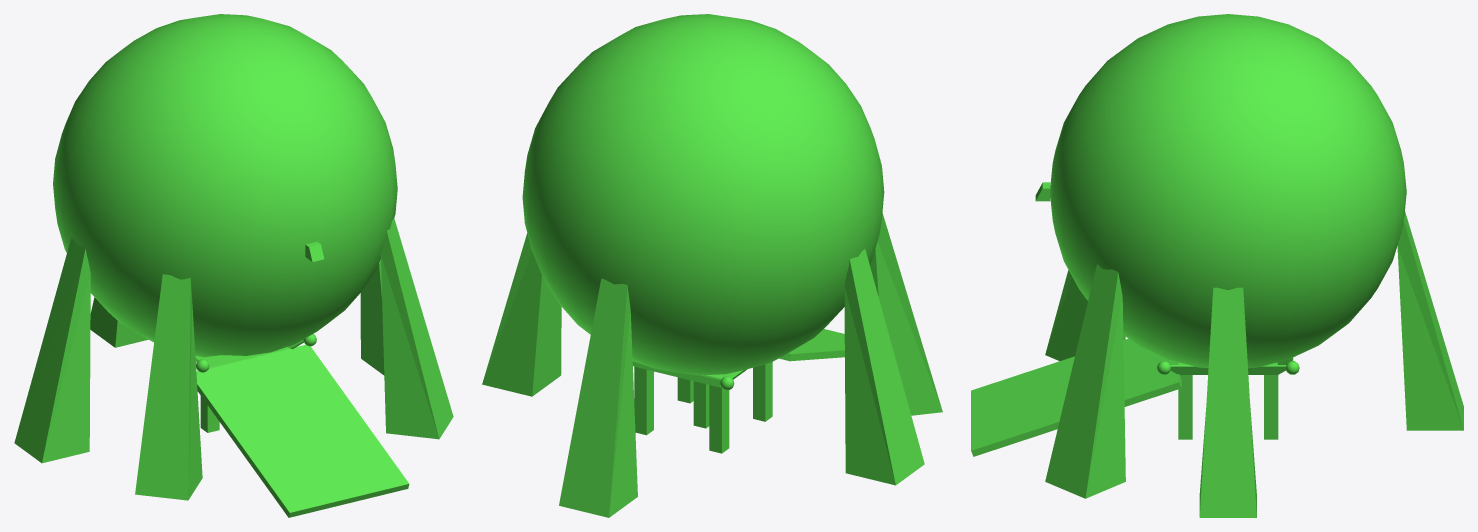
File: InverseGravitySample.fbx
3 views of the same model, side by side, from view 1: azimuth 30°, elevation 25°; view 2: azimuth 150°, elevation 25°; view 3: azimuth 270°, elevation 25° (orthographic). The views are drawn at different scales.
Visible parts, largest first — view 1: RoomGravity, RampEntery, PillarSpheros.004, PillarSpheros.001, PillarSpheros.003, PillarSpheros.002, PillarSpheros, Bowlentry; view 2: RoomGravity, PillarSpheros, PillarSpheros.001, PillarSpheros.002, PillarSpheros.004, Pillarus.001, Pillarus.003, RampEntery, Pillarus.002, Pillarus, Bowlentry; view 3: RoomGravity, PillarSpheros.003, PillarSpheros.002, RampEntery, PillarSpheros, PillarSpheros.004, Pillarus.003, Pillarus.004, Bowlentry.
Part boxes in pixels (<box>): RoomGravity: <box>53,14,397,357</box>; RampEntery: <box>196,344,409,517</box>; PillarSpheros.004: <box>135,274,202,500</box>; PillarSpheros.001: <box>14,238,90,463</box>; PillarSpheros.003: <box>380,218,453,439</box>; PillarSpheros.002: <box>360,259,384,375</box>; PillarSpheros: <box>90,297,148,347</box>; Bowlentry: <box>195,339,303,368</box>; RoomGravity: <box>522,14,884,375</box>; PillarSpheros: <box>559,278,637,517</box>; PillarSpheros.001: <box>844,249,924,485</box>; PillarSpheros.002: <box>482,233,561,396</box>; PillarSpheros.004: <box>870,213,942,415</box>; Pillarus.001: <box>709,385,729,453</box>; Pillarus.003: <box>634,366,653,435</box>; RampEntery: <box>779,329,844,361</box>; Pillarus.002: <box>753,362,772,421</box>; Pillarus: <box>693,381,709,428</box>; Bowlentry: <box>632,361,746,387</box>; RoomGravity: <box>1050,14,1406,368</box>; PillarSpheros.003: <box>1045,264,1125,498</box>; PillarSpheros.002: <box>1199,287,1256,517</box>; RampEntery: <box>971,338,1181,456</box>; PillarSpheros: <box>1397,211,1463,430</box>; PillarSpheros.004: <box>1045,270,1125,360</box>; Pillarus.003: <box>1264,375,1278,439</box>; Pillarus.004: <box>1178,375,1192,439</box>; Bowlentry: <box>1170,357,1293,374</box>.
Bounding box in the file's own units: 6600 × 6129 × 6903.
